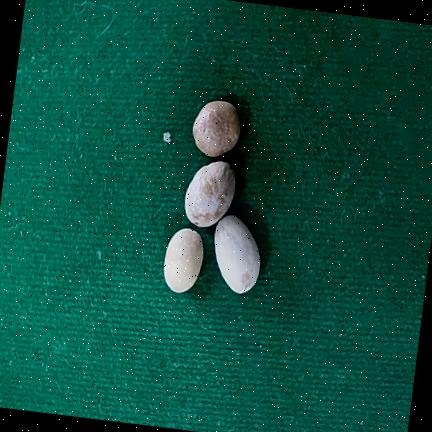husk: (214, 215, 260, 293), (184, 161, 235, 227), (192, 100, 240, 157), (163, 228, 203, 292)
